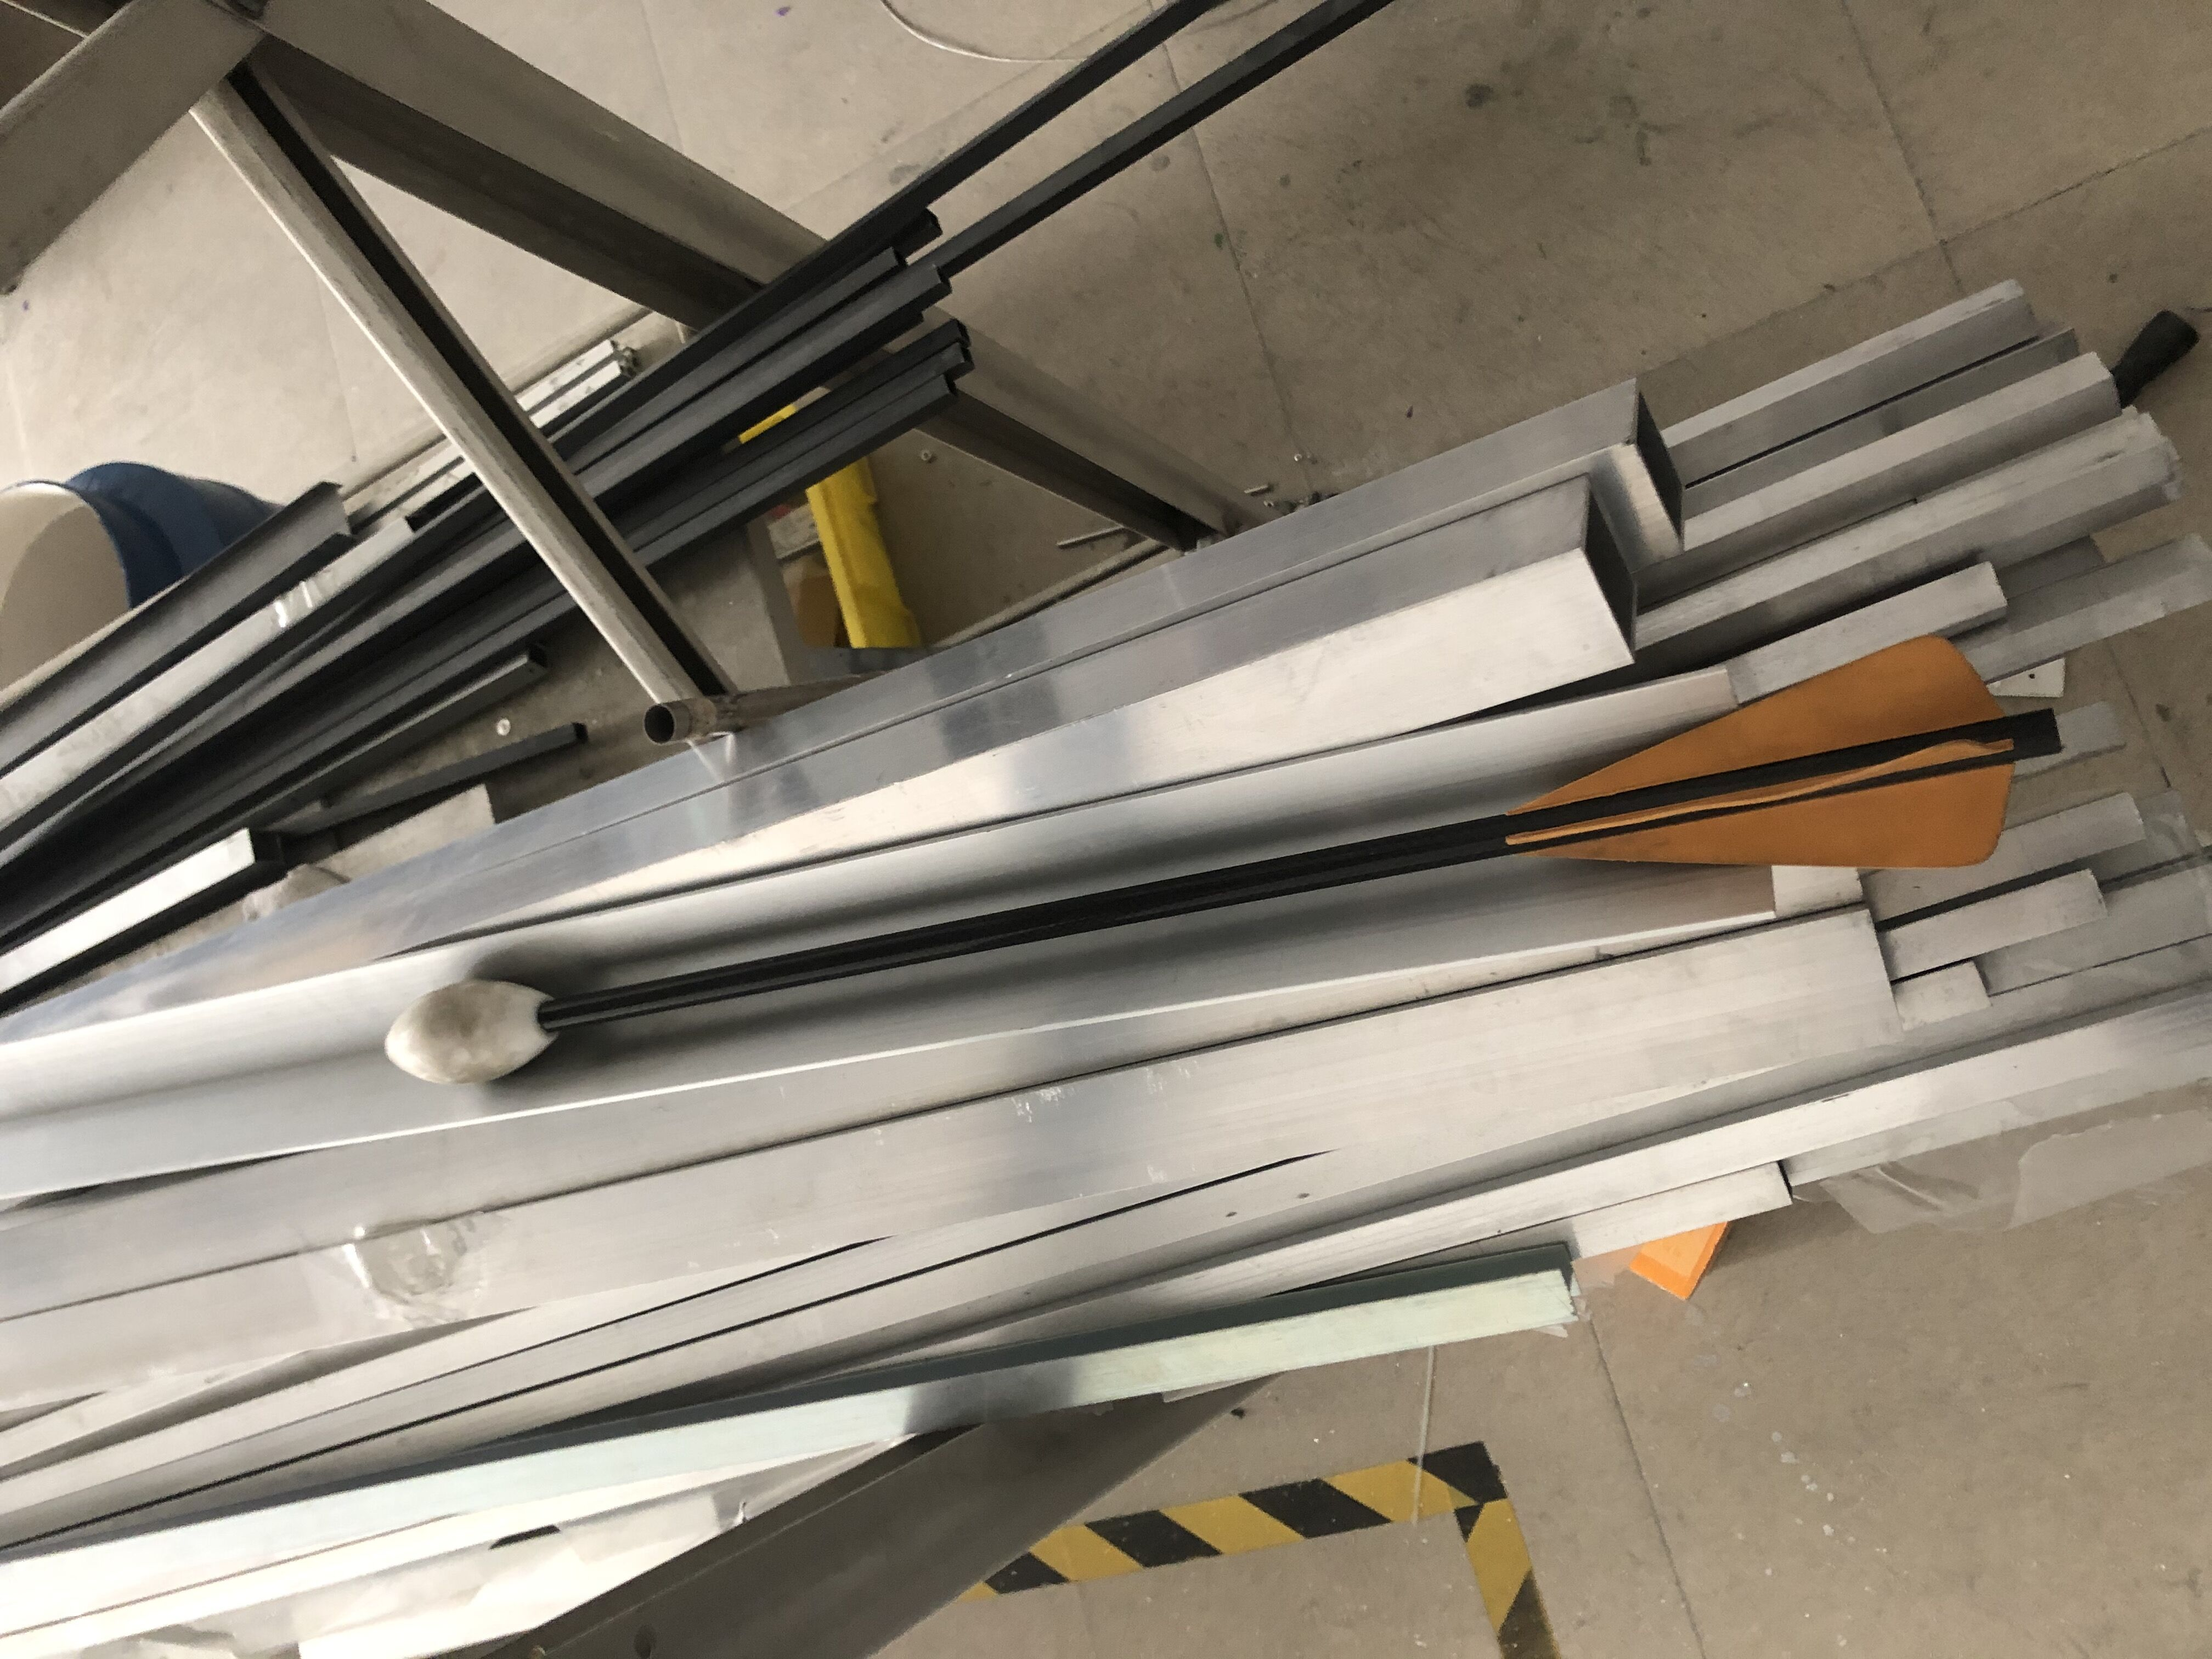arrow: (380, 633, 2066, 1084)
arrowFront: (381, 972, 556, 1086)
